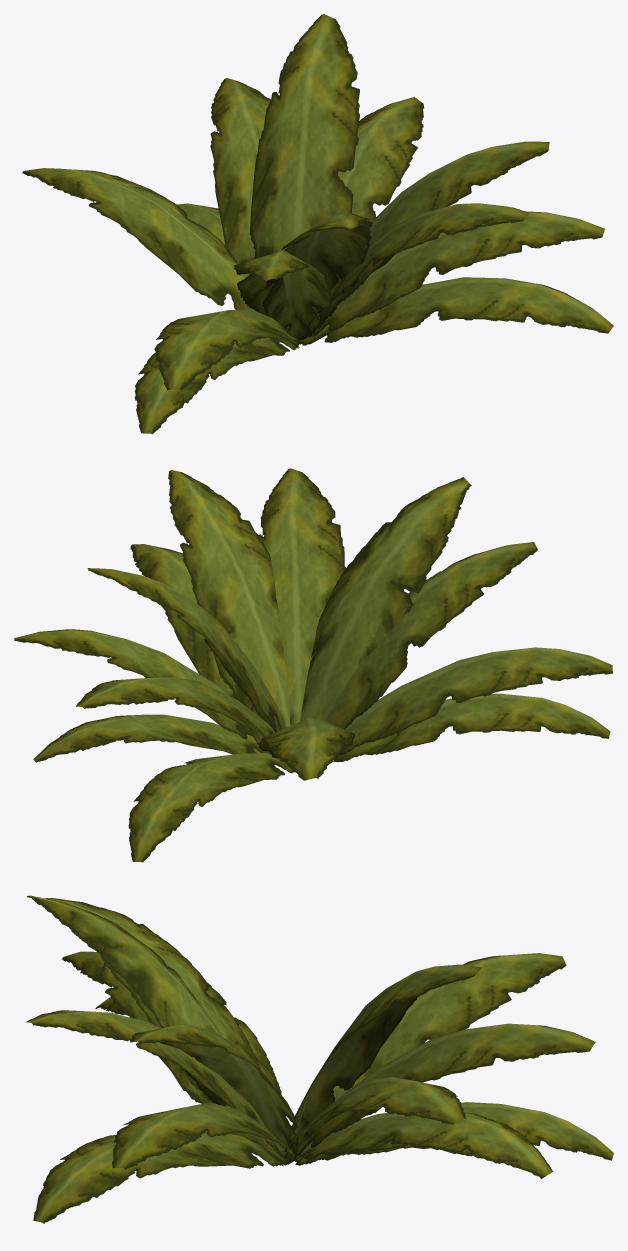
The model's file is SM_TI_Palm_Plant_1.fbx.
The picture shows the model from 3 angles, top to bottom: view 1: azimuth 30°, elevation 25°; view 2: azimuth 150°, elevation 25°; view 3: azimuth 270°, elevation 25°; orthographic projection. The views are drawn at different scales.
Visible parts, largest first — view 1: SM_TI_Palm_Plant_1; view 2: SM_TI_Palm_Plant_1; view 3: SM_TI_Palm_Plant_1.
Part boxes in pixels (x1=…): SM_TI_Palm_Plant_1: x1=22, y1=14, x2=613, y2=433; SM_TI_Palm_Plant_1: x1=14, y1=468, x2=612, y2=862; SM_TI_Palm_Plant_1: x1=26, y1=895, x2=613, y2=1223.
Bounding box in the file's own units: 1.65 × 1.6 × 0.8006.
